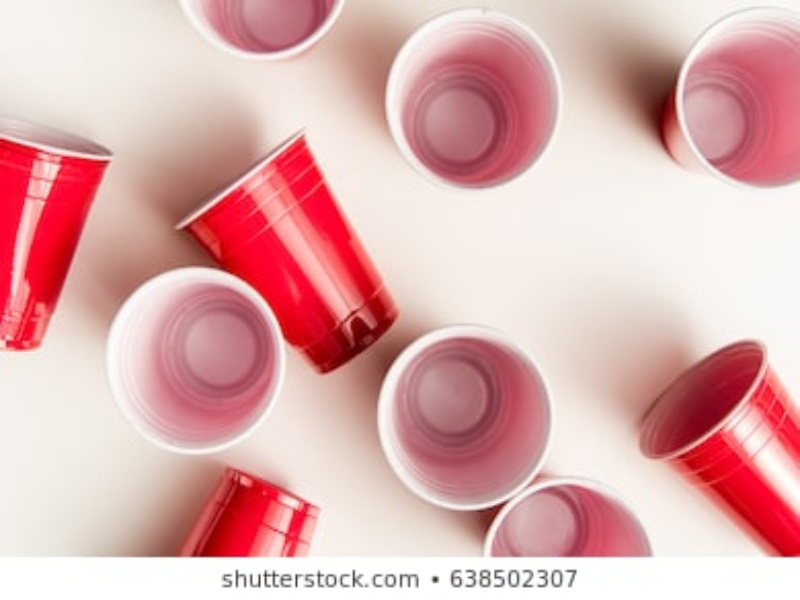plastic-cup: (170, 128, 400, 374), (634, 340, 800, 559), (380, 4, 568, 197), (102, 265, 290, 458), (372, 321, 560, 514), (1, 111, 116, 350), (652, 4, 800, 186), (171, 464, 324, 557), (470, 478, 653, 554), (175, 1, 347, 62)
